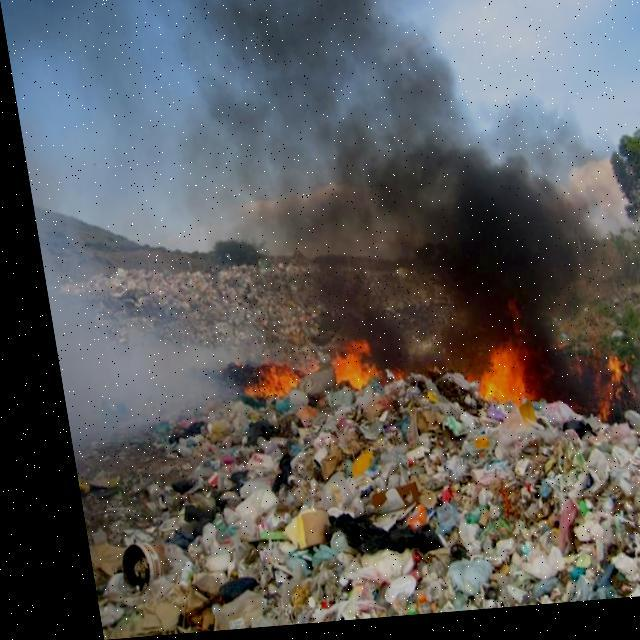Fire: (456, 343, 522, 423), (309, 332, 374, 397), (228, 358, 292, 412), (576, 364, 616, 433)
